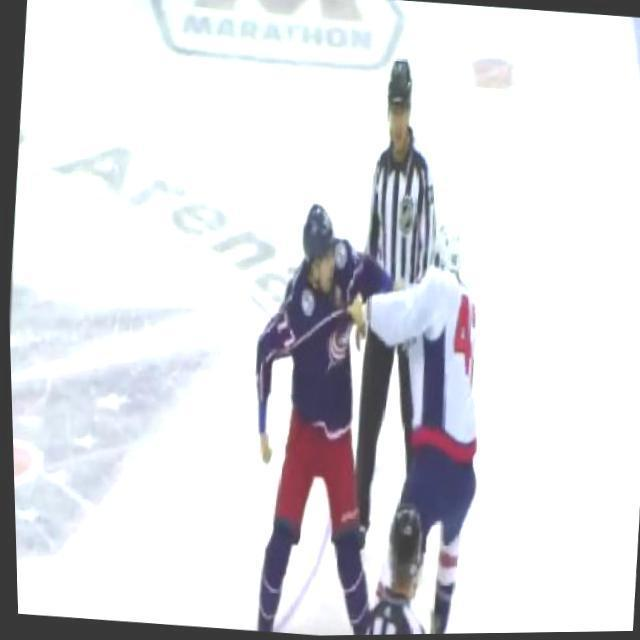fight: (220, 192, 502, 638)
